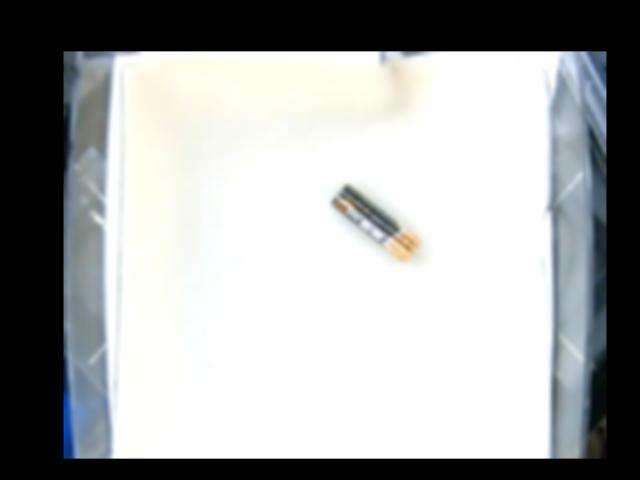Battery: (331, 181, 420, 260)
